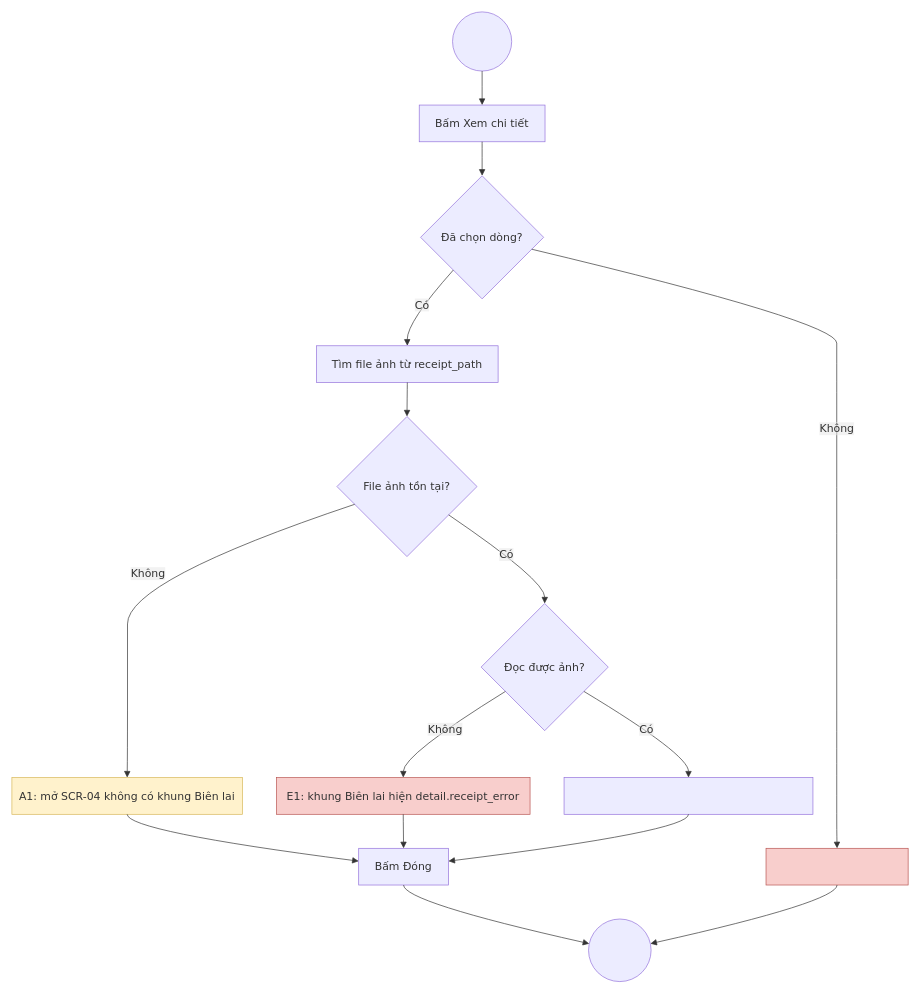
This 920x993 diagram has some shape labels left out. The shapes that lost their labels are listed below. From the top down, each one's centre as x and y in pixels, then its label:
At point 482,41: "Bắt đầu".
At point 688,795: "Mở SCR-04 với ảnh thu nhỏ tối đa 400×200".
At point 836,866: "E0: main.select_first".
At point 619,950: "Kết thúc".
